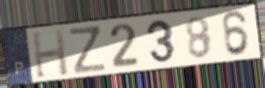2: (108, 22, 142, 70)
3: (143, 18, 178, 65)
6: (220, 9, 251, 58)
8: (184, 15, 213, 60)
H: (30, 27, 70, 80)
Z: (68, 25, 108, 76)
